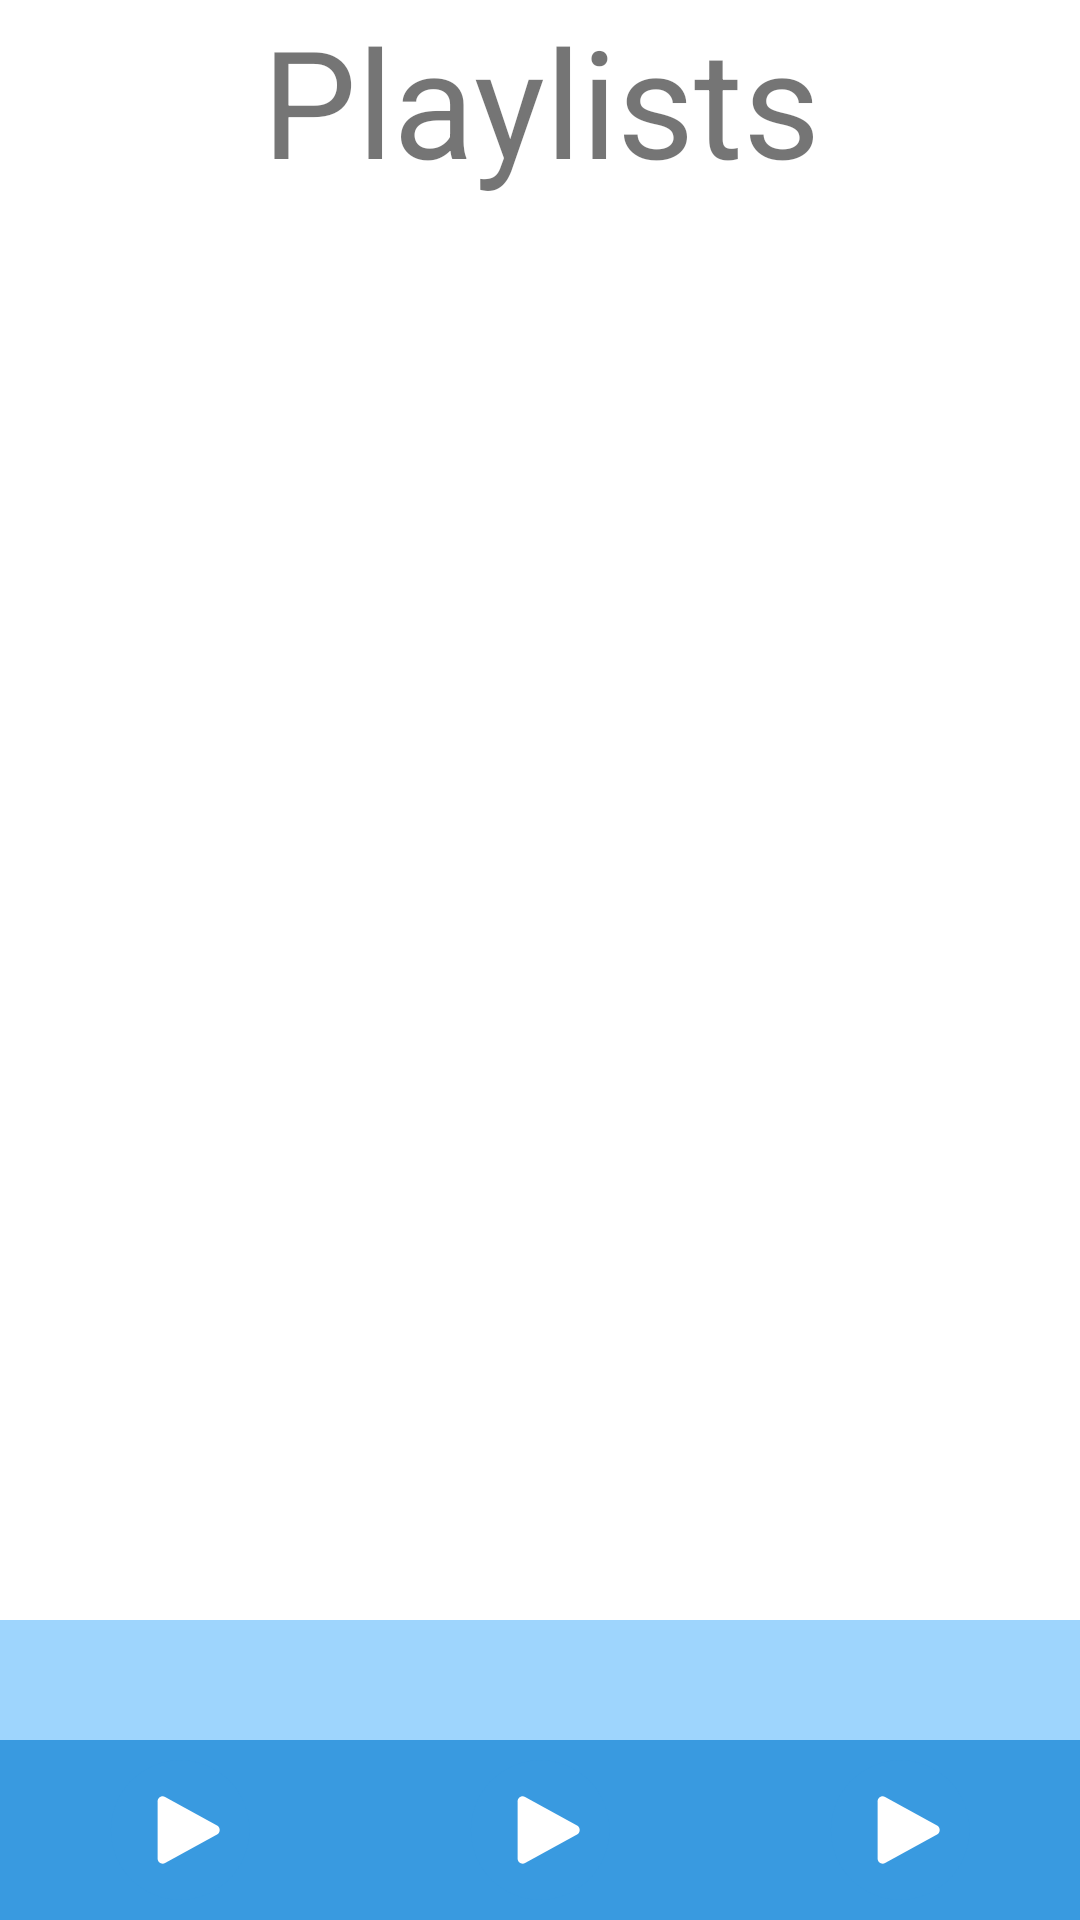

Named icons in this screenshot (1080w x 1920h) and their centers, (x,y):
play: (188,1830), (548,1830), (908,1830)
